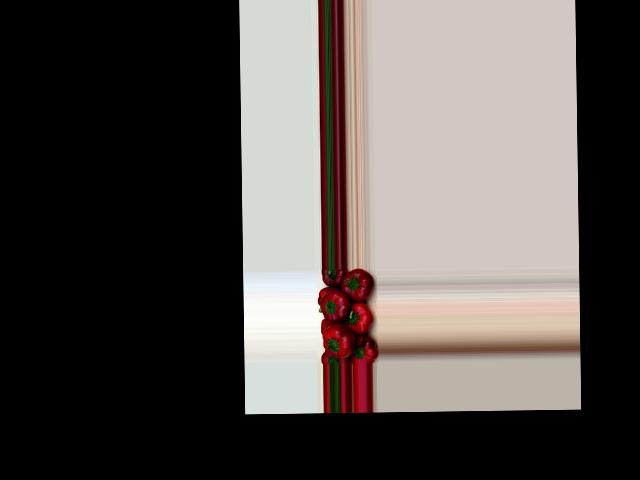bell_pepper: (319, 318, 332, 332)
